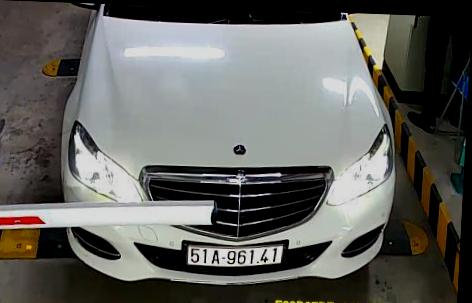License_Plate: (183, 240, 285, 270)
